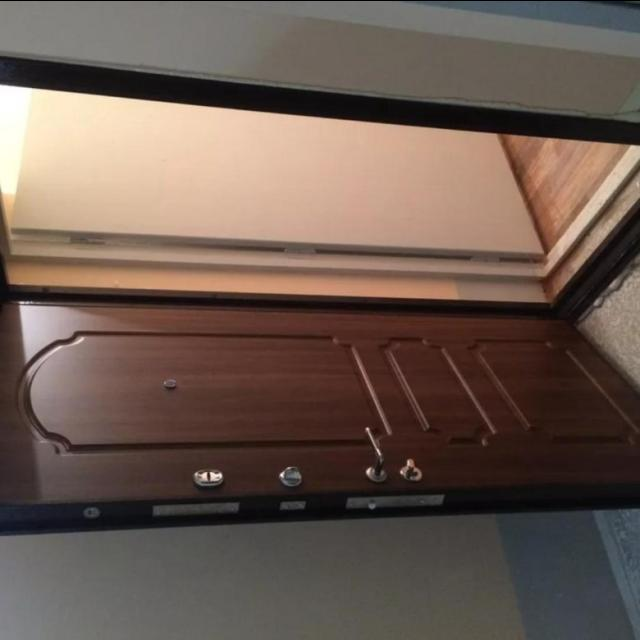open: (0, 59, 632, 499)
